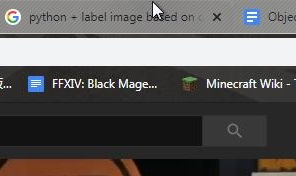cursor: (144, 1, 168, 22)
